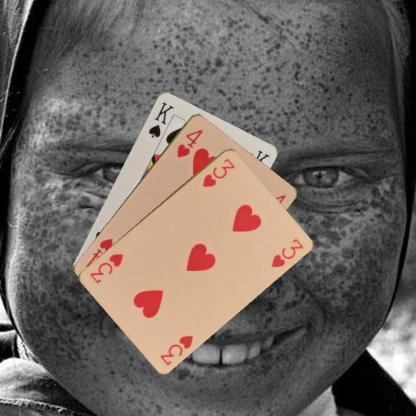3h: (157, 332, 195, 366), (200, 155, 236, 188)
4h: (174, 126, 204, 159)
Ks: (146, 98, 176, 140)
